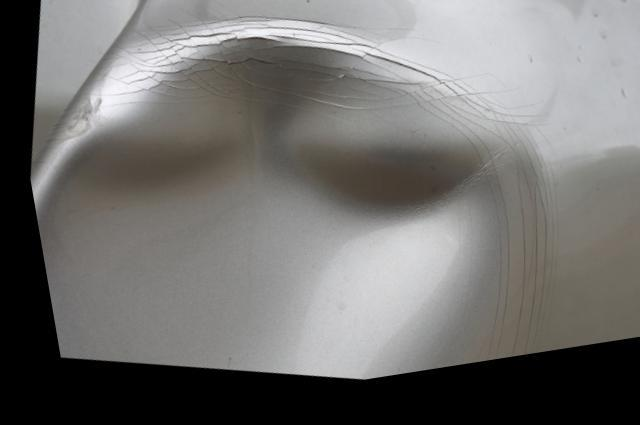dent: (30, 45, 492, 389)
